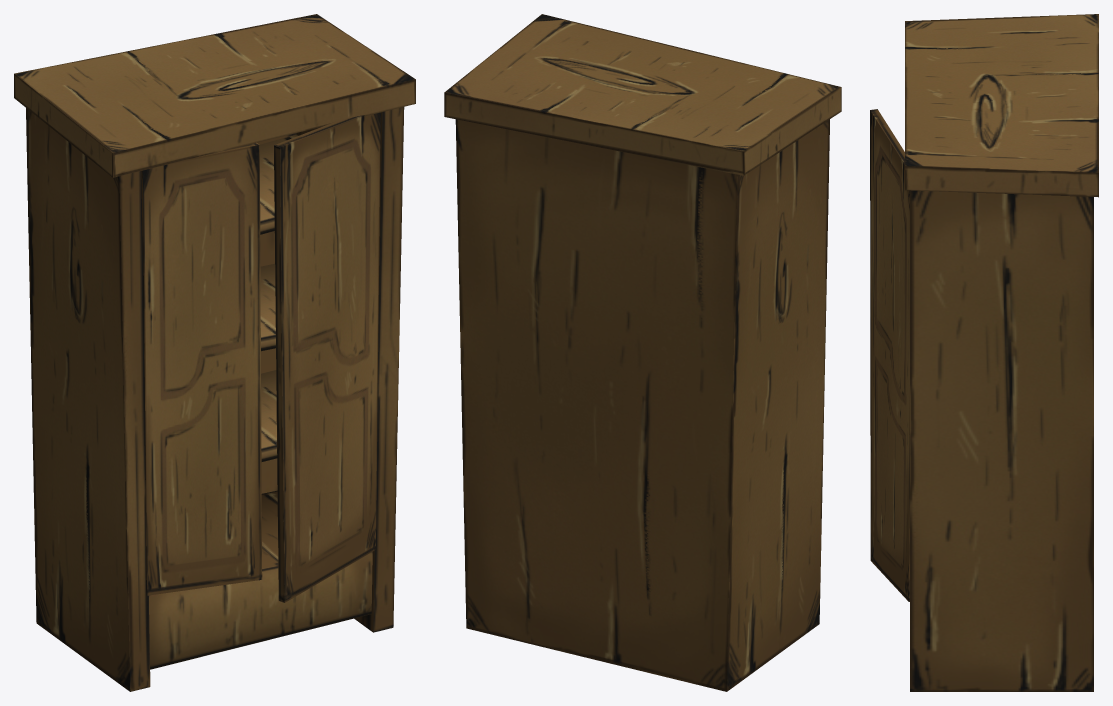
File: wardrope.fbx
3 views of the same model, side by side, from view 1: azimuth 30°, elevation 25°; view 2: azimuth 150°, elevation 25°; view 3: azimuth 270°, elevation 25° (orthographic).
Visible parts, largest first — view 1: wardrobe.003; view 2: wardrobe.003; view 3: wardrobe.003.
Boxes of the visible parts, bbox=[...] form: wardrobe.003: bbox=[14, 14, 415, 691]; wardrobe.003: bbox=[444, 14, 841, 691]; wardrobe.003: bbox=[870, 14, 1098, 691].
Size of the model in its own units: 150 by 262 by 100.
1 material, 1 textured.
